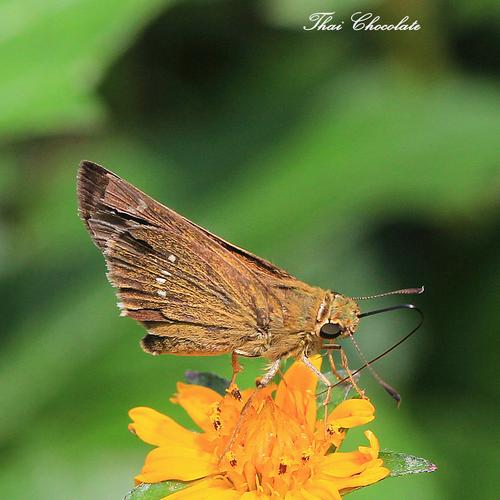Hesperiidae: (72, 152, 432, 396)
